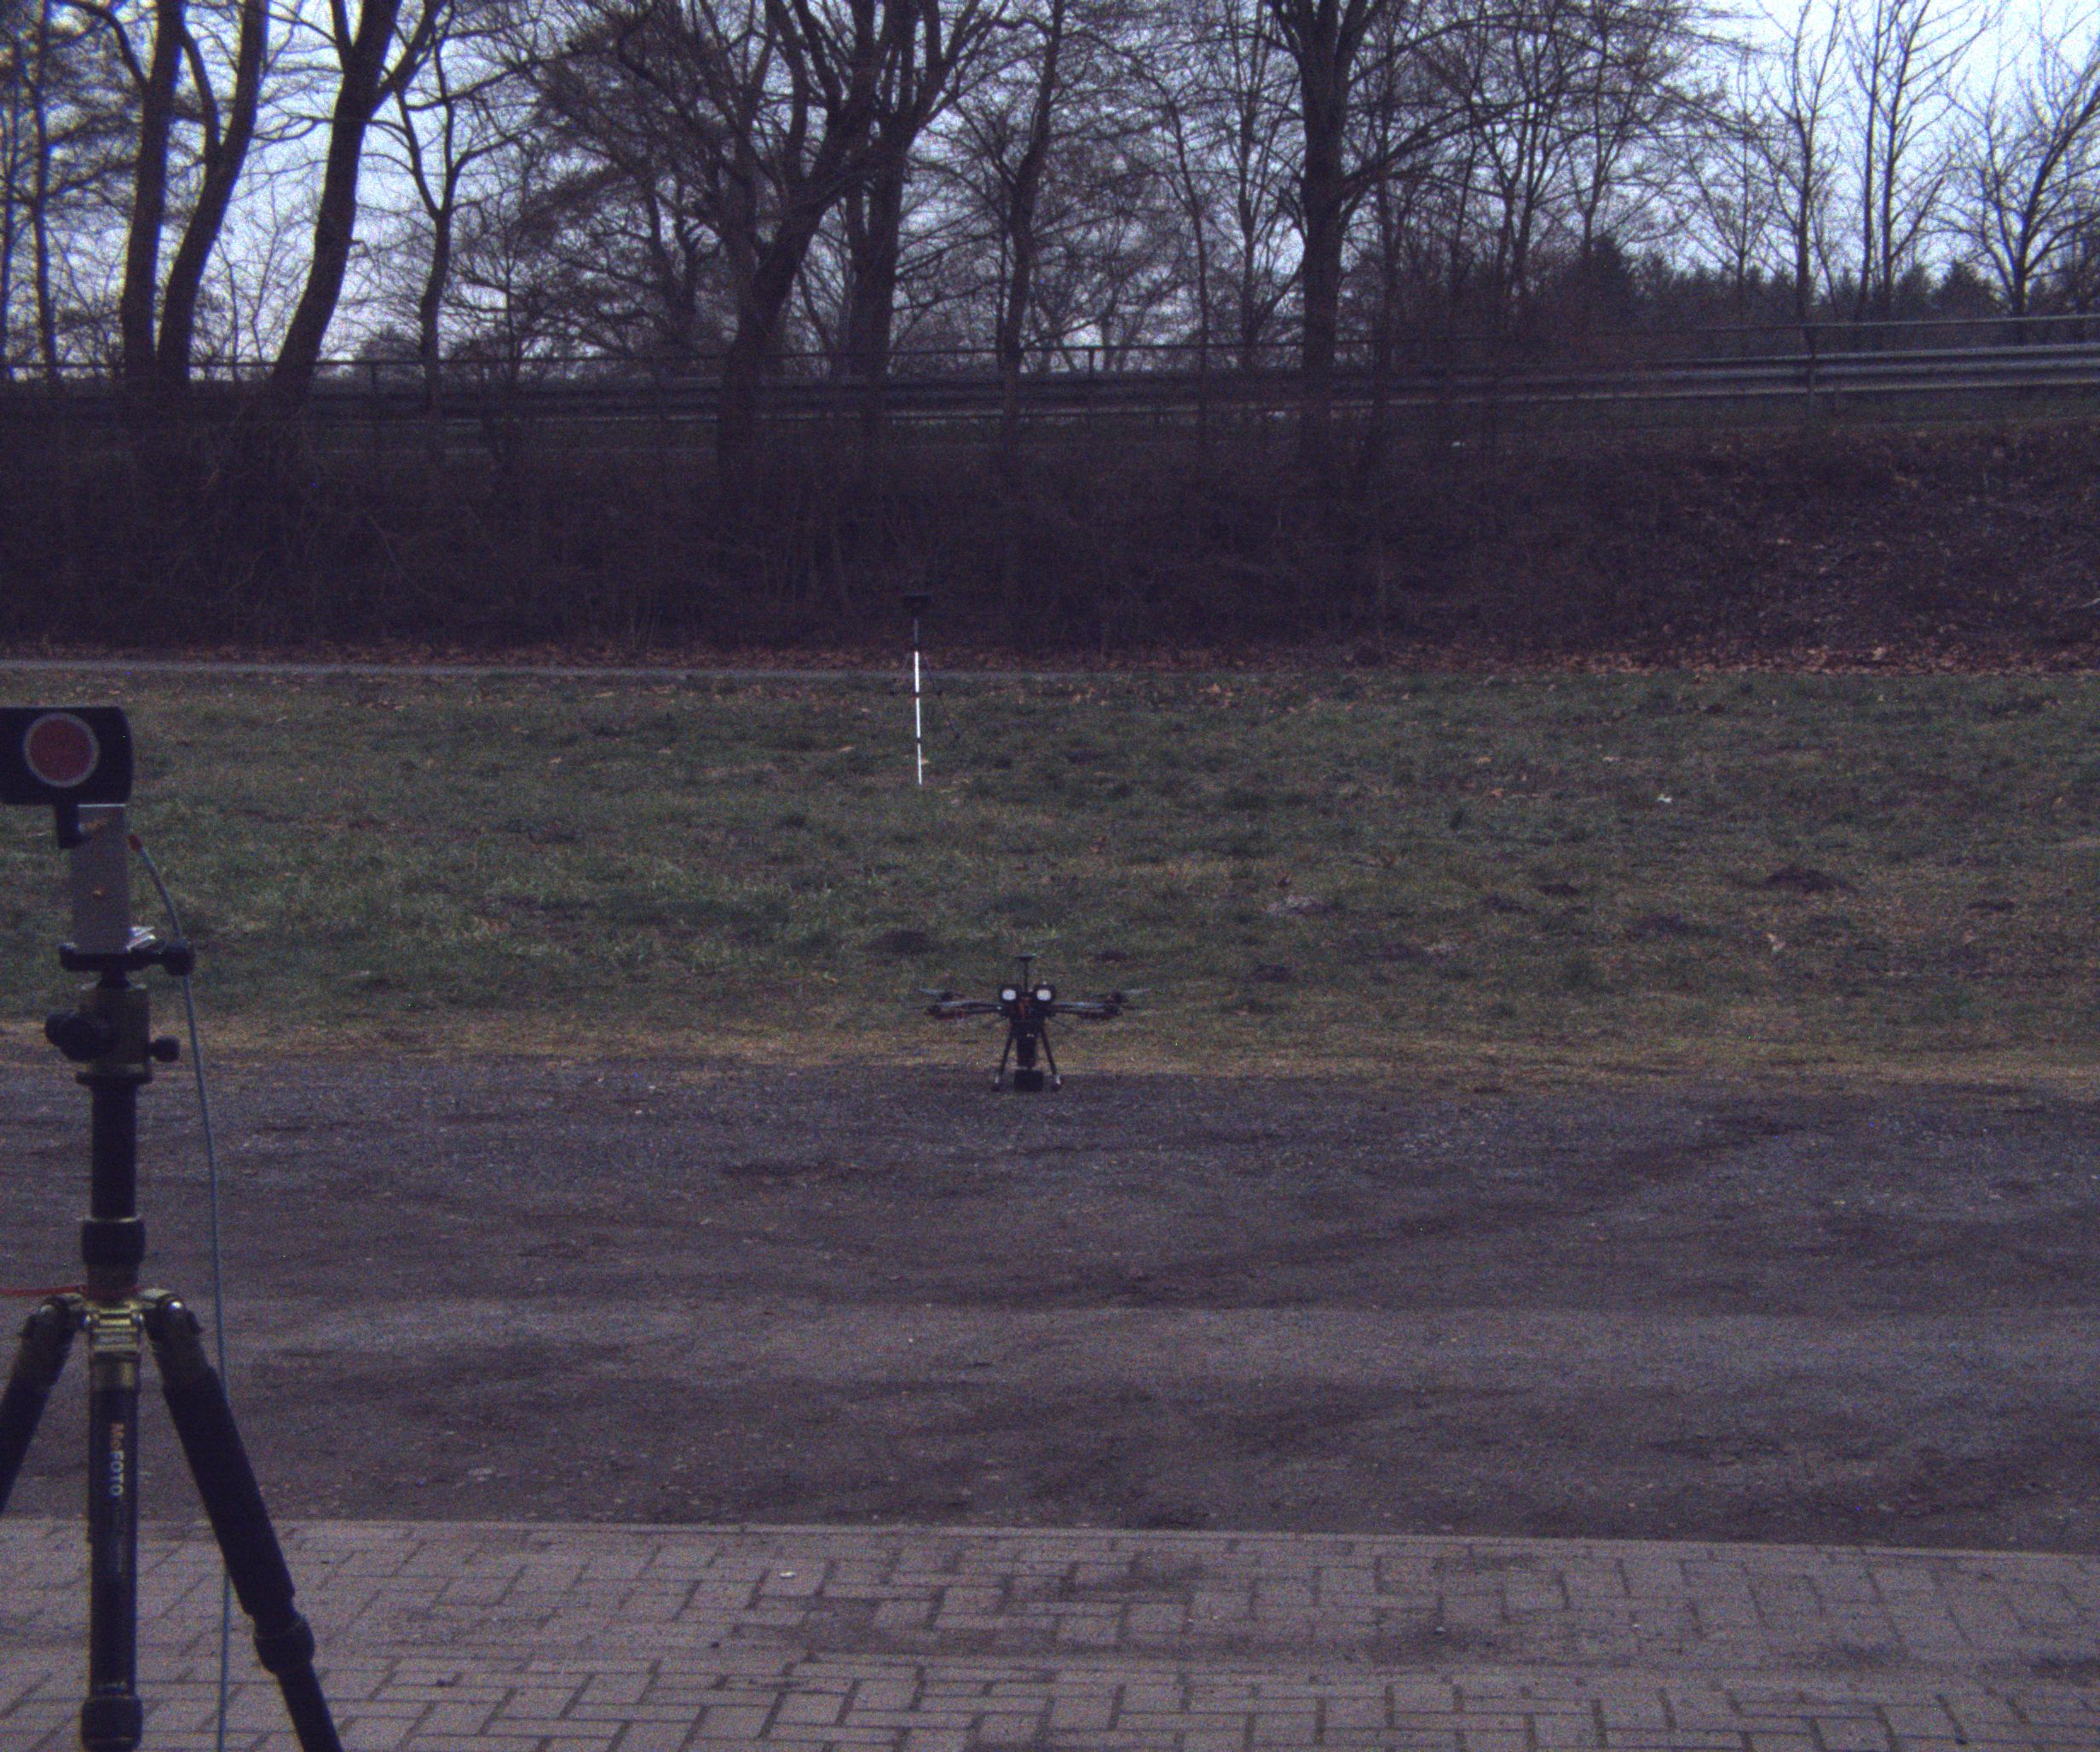Drohne: (916, 945, 1163, 1130)
